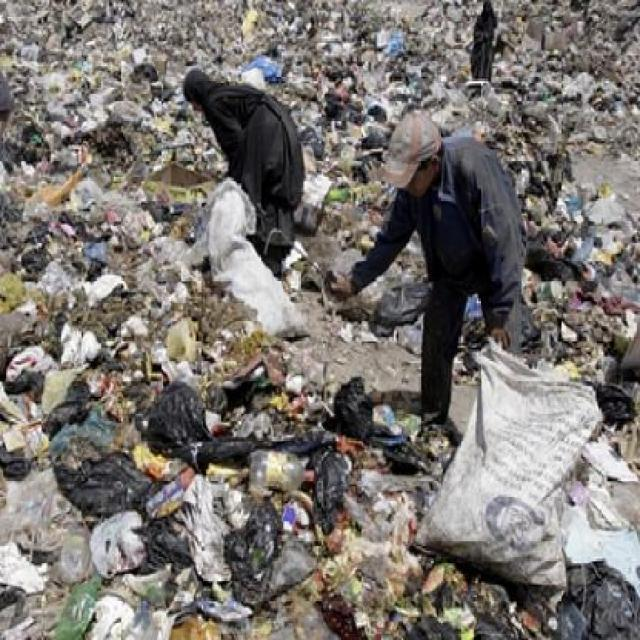garbage: (0, 0, 187, 638), (185, 402, 640, 639), (519, 0, 639, 394), (192, 3, 470, 63), (294, 56, 383, 156)
